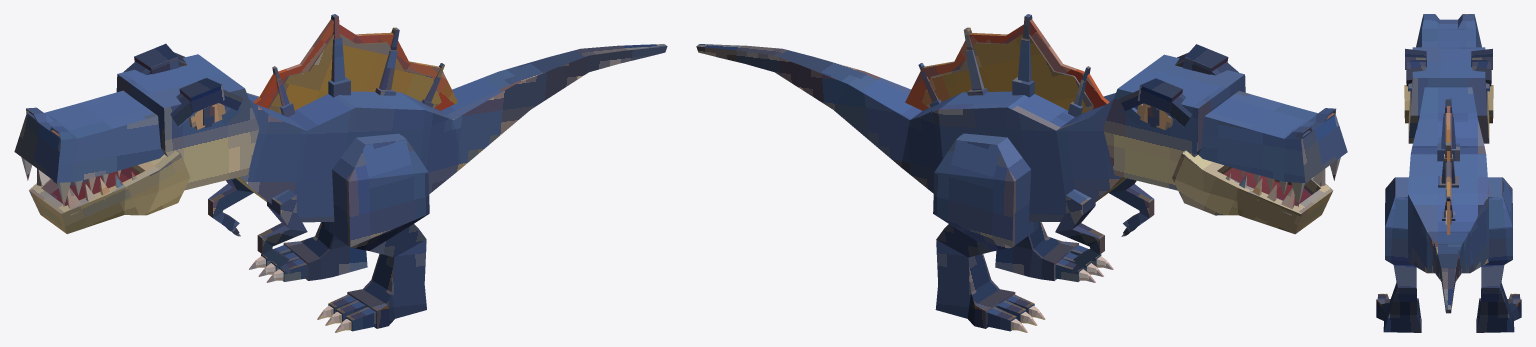
File: animal_spinosaurus.obj
3 renders of one model, left to right at view 1: azimuth 30°, elevation 25°; view 2: azimuth 150°, elevation 25°; view 3: azimuth 270°, elevation 25°, orthographic. The views are drawn at different scales.
Parts seen in each view (by area): view 1: animal_spinosaurus; view 2: animal_spinosaurus; view 3: animal_spinosaurus.
Boxes of the visible parts, box(x1,y1,x2,y2) form: animal_spinosaurus: box(14, 14, 667, 332); animal_spinosaurus: box(696, 14, 1347, 332); animal_spinosaurus: box(1376, 14, 1521, 332).
Bounding box in the file's own units: 26.4 × 11.14 × 6.78.
1 material, 1 textured.
